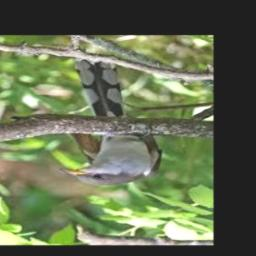Cuckoo: (59, 61, 161, 187)
